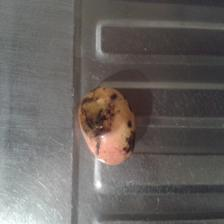Mango Semirotten: (79, 87, 136, 164)
